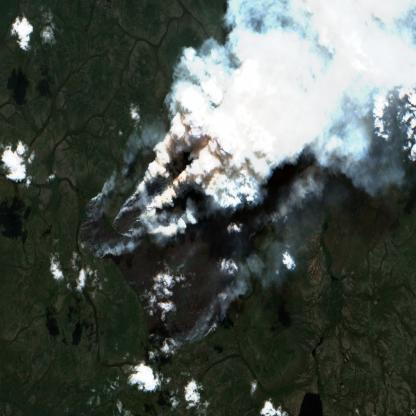fire: (76, 124, 306, 358)
